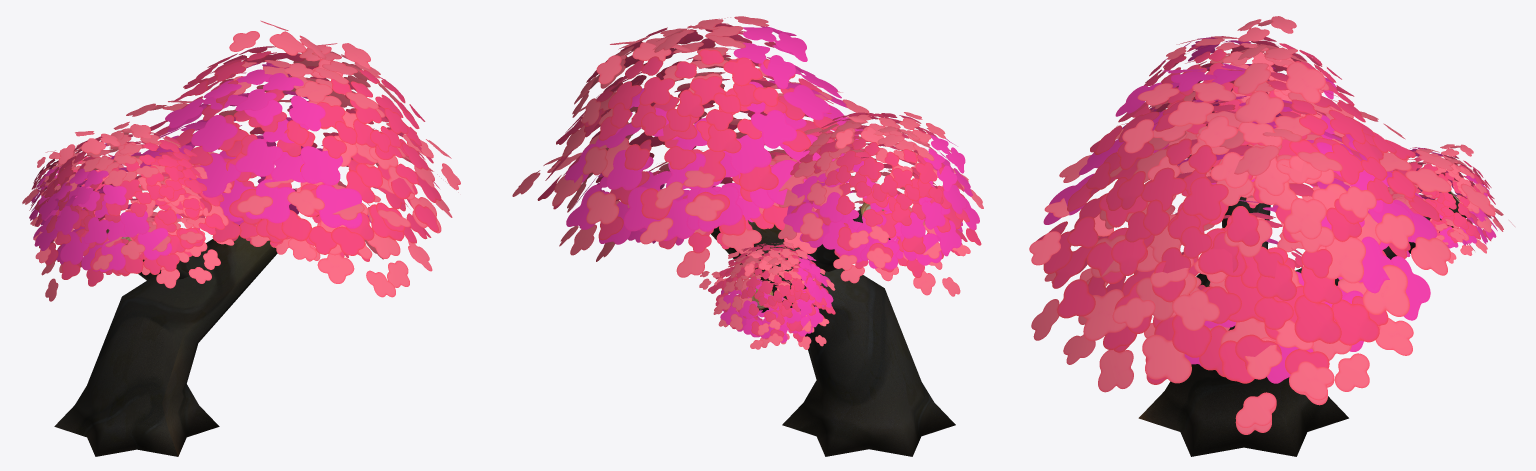
File: sakura4.glb
3 renders of one model, left to right at view 1: azimuth 30°, elevation 25°; view 2: azimuth 150°, elevation 25°; view 3: azimuth 270°, elevation 25°, orthographic. The views are drawn at different scales.
Visible parts, largest first — view 1: MidGrow.005_13; view 2: MidGrow.005_13; view 3: MidGrow.005_13.
Part boxes in pixels (x1=…): MidGrow.005_13: x1=22, y1=20, x2=460, y2=456; MidGrow.005_13: x1=512, y1=16, x2=983, y2=456; MidGrow.005_13: x1=1029, y1=16, x2=1514, y2=456.
Size of the model in its own units: 4.57 by 3.6 by 3.62.
Materials: 1 (1 with a texture image).
